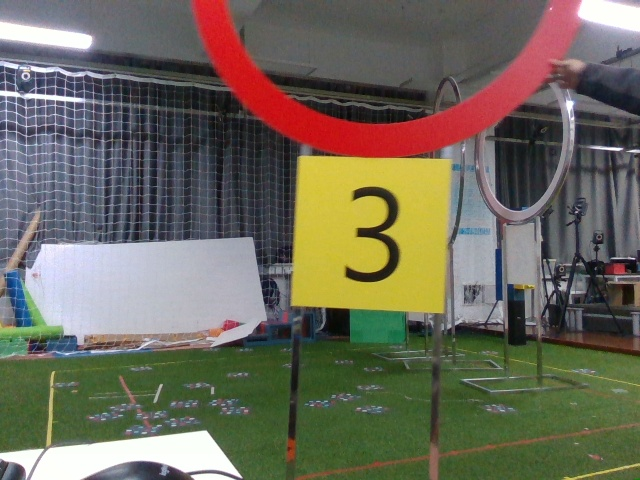target: (299, 159, 437, 310)
